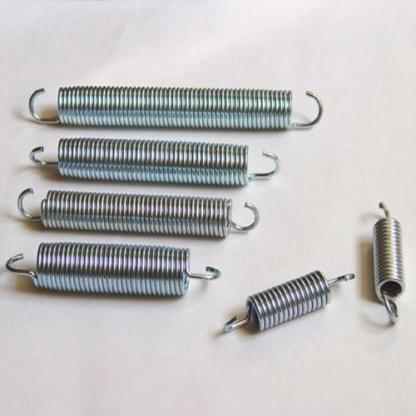FOD: (28, 82, 326, 132), (14, 185, 262, 239), (3, 238, 222, 296), (28, 136, 282, 185), (220, 264, 356, 339), (371, 199, 407, 325)
